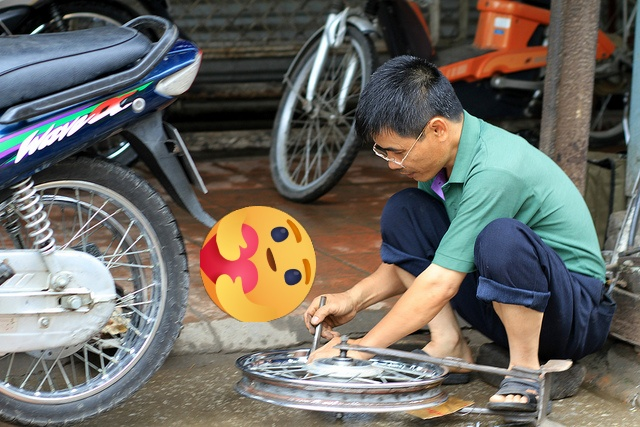care: (200, 206, 316, 322)
